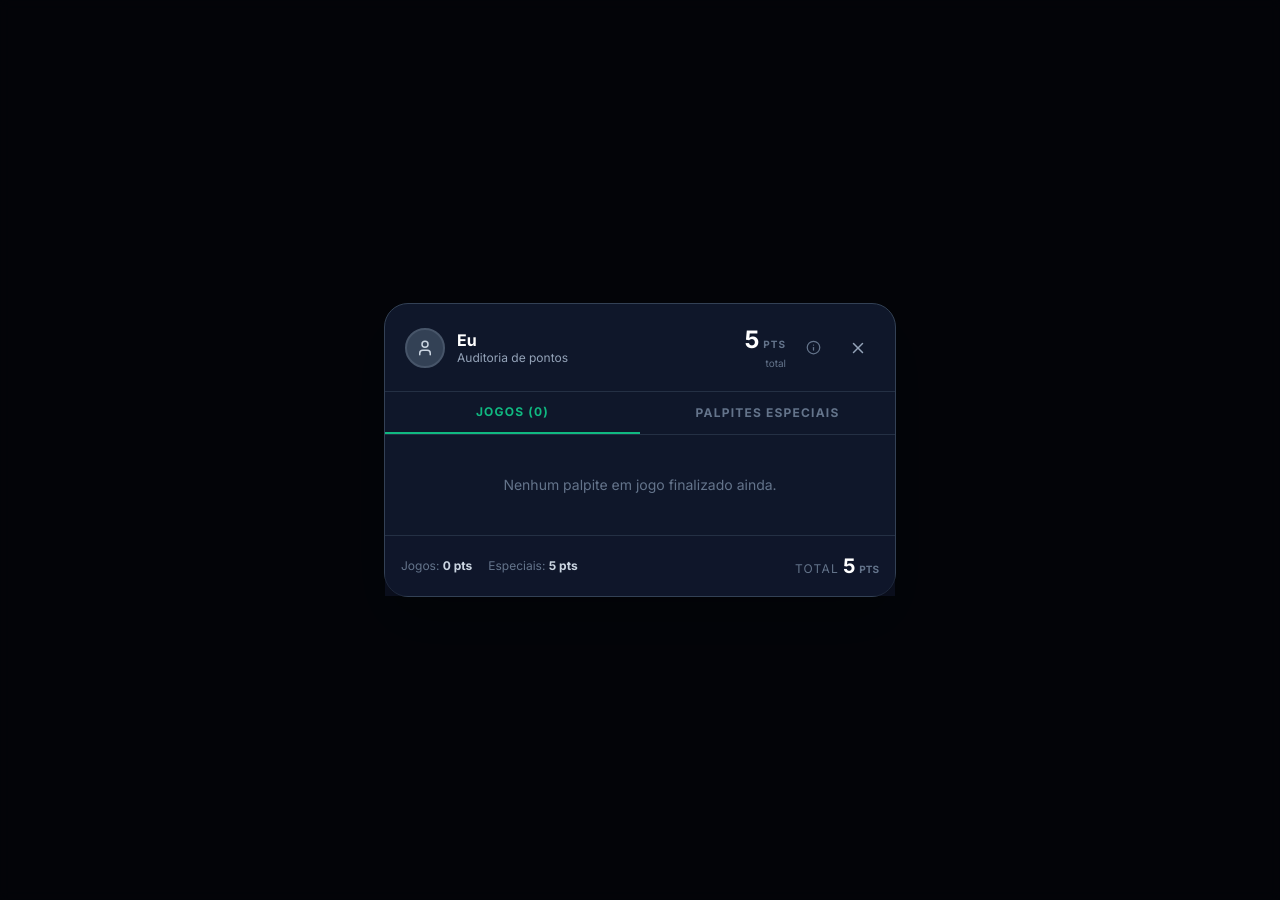
Scenario: UserAuditModal - Regulamento 2 special predictions accordion › shows only correct Final qualifiers while semifinals are still in progress
The image size is (1280, 900).
Click the button "Palpites Especiais".
click(768, 413)  # box [640,392,895,434]
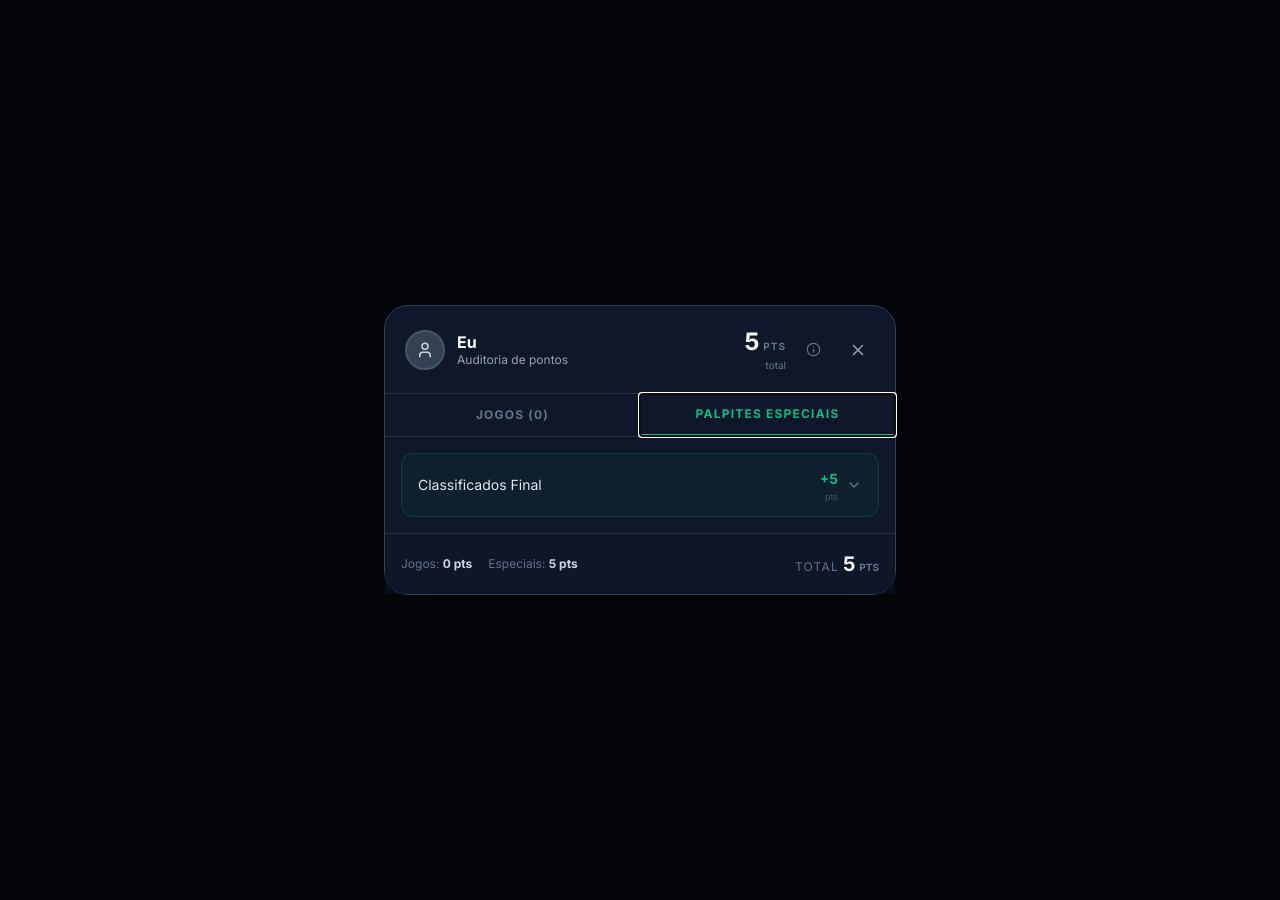
Result: the text "Classificados Final" is shown at [418,476,542,493]
Result: the text "+5" is shown at [820,470,838,487]
Click the button with test id "special-group-classifications-Final".
click(480, 484)  # box [402,454,878,516]
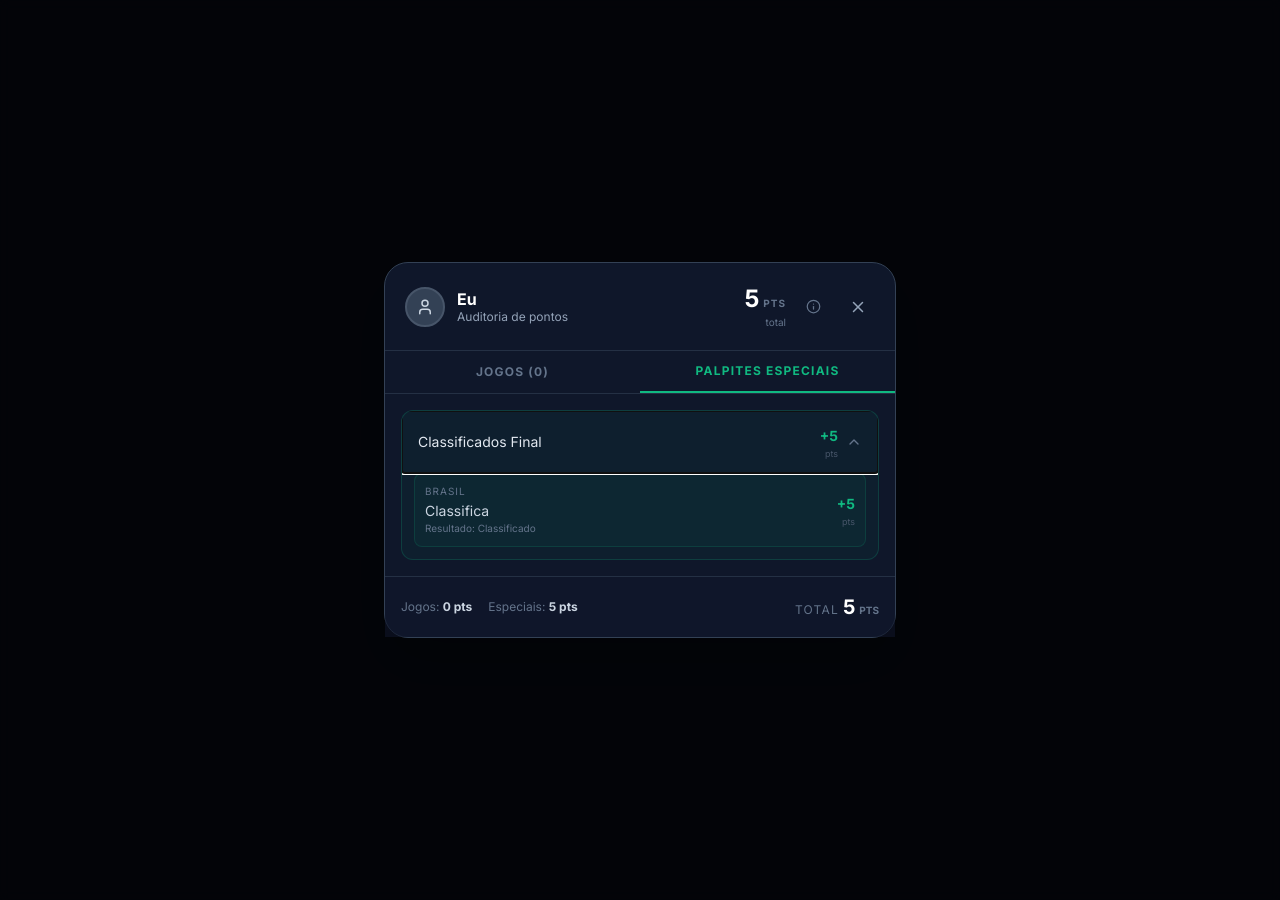
Result: the text "Brasil" is shown at [425,485,466,497]
Result: the text "Resultado: Classificado" is shown at [425,522,536,534]
